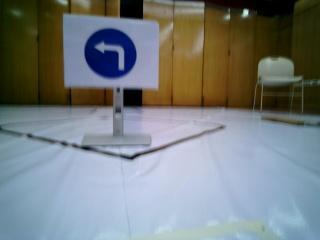left: (71, 16, 163, 92)
